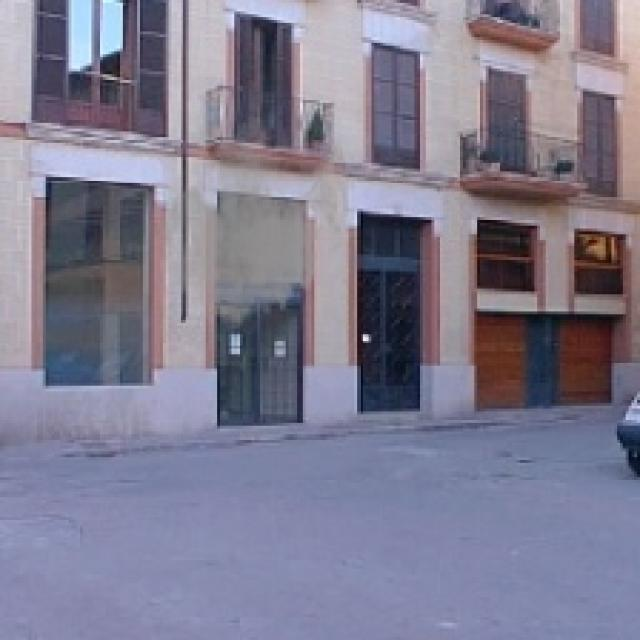Smoke: (148, 108, 354, 334)
